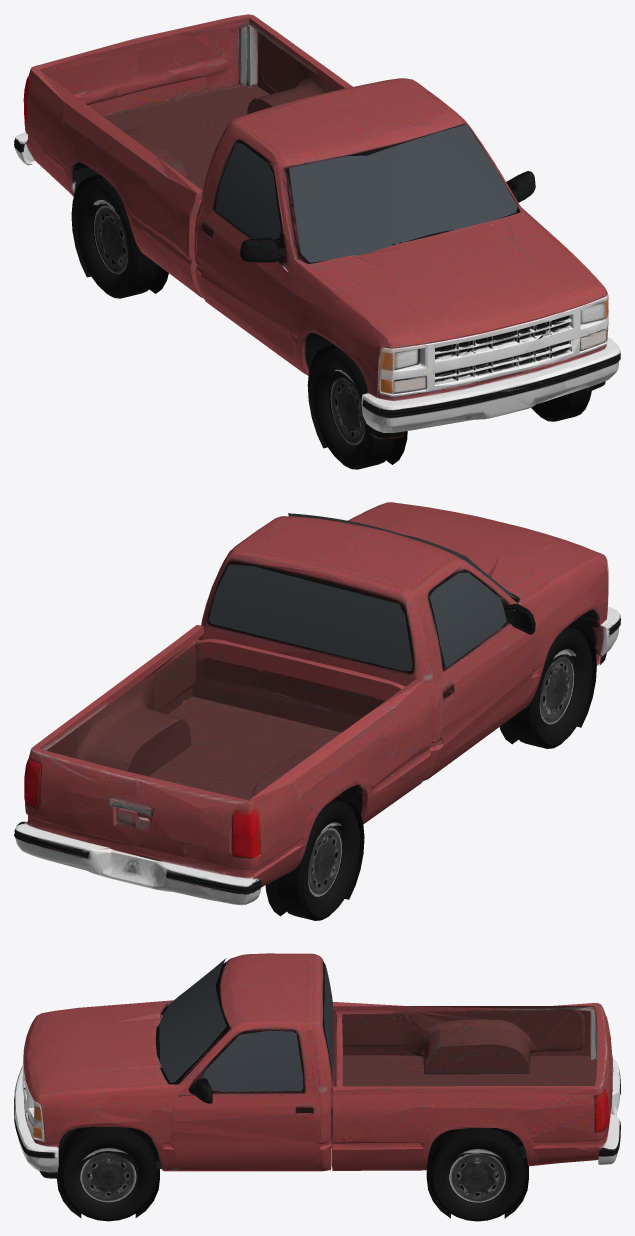
The model's file is pickup.glb.
3 views of the same model, one above another, from view 1: azimuth 30°, elevation 25°; view 2: azimuth 150°, elevation 25°; view 3: azimuth 270°, elevation 25° (orthographic). The views are drawn at different scales.
Visible parts, largest first — view 1: body, glass, wheel_rr, wheel_fr, wheel_fl; view 2: body, glass, wheel_rr, wheel_fr; view 3: body, glass, wheel_fl, wheel_rl.
Boxes of the visible parts, x1,y1,x2,y2 form: body: (14, 14, 620, 464); glass: (215, 124, 517, 262); wheel_rr: (75, 177, 158, 298); wheel_fr: (312, 347, 395, 469); wheel_fl: (531, 388, 591, 421); body: (14, 502, 620, 916); glass: (208, 513, 515, 671); wheel_rr: (276, 800, 360, 920); wheel_fr: (509, 627, 592, 748); body: (14, 953, 620, 1218); glass: (159, 958, 333, 1091); wheel_fl: (59, 1127, 156, 1221); wheel_rl: (429, 1128, 525, 1221).
Size of the model in its own units: 2.33 by 1.89 by 5.3.
3 materials, 2 textured.
